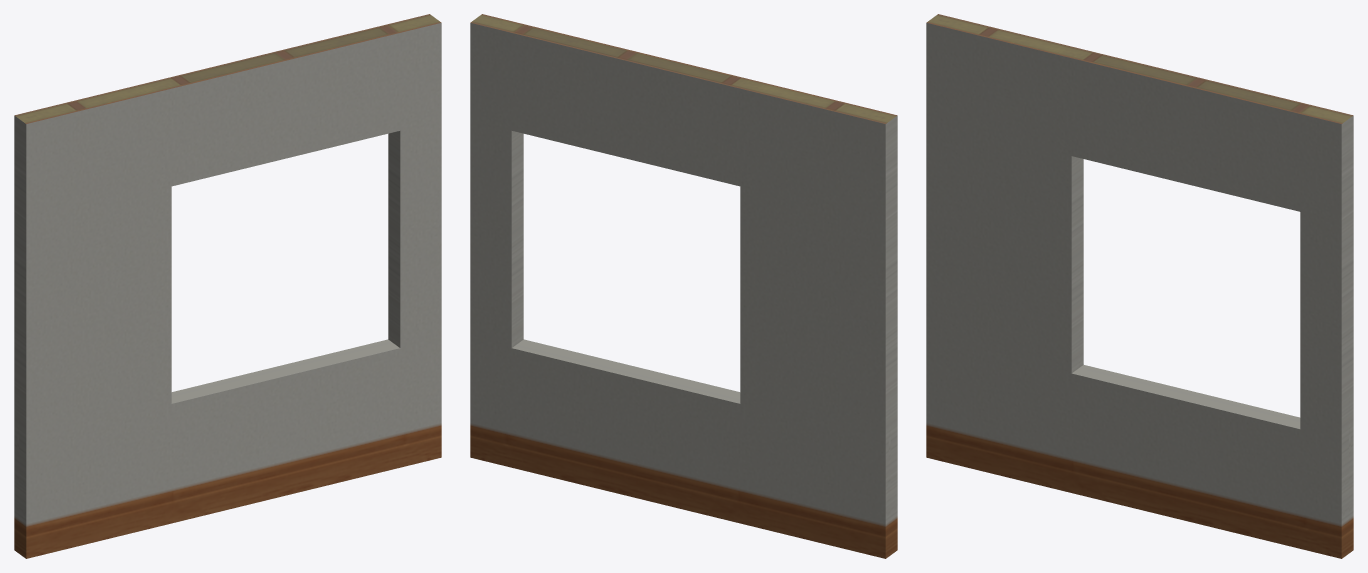
The model's file is wall4_5.fbx.
3 views of the same model, side by side, from view 1: azimuth 30°, elevation 25°; view 2: azimuth 150°, elevation 25°; view 3: azimuth 330°, elevation 25° (orthographic).
Parts seen in each view (by area): view 1: wall4_white_e; view 2: wall4_white_e; view 3: wall4_white_e.
Part boxes in pixels (x1,y1,x2,y2): wall4_white_e: [14, 14, 441, 558]; wall4_white_e: [470, 14, 897, 558]; wall4_white_e: [926, 14, 1353, 558].
Size of the model in its own units: 400 by 400 by 20.
